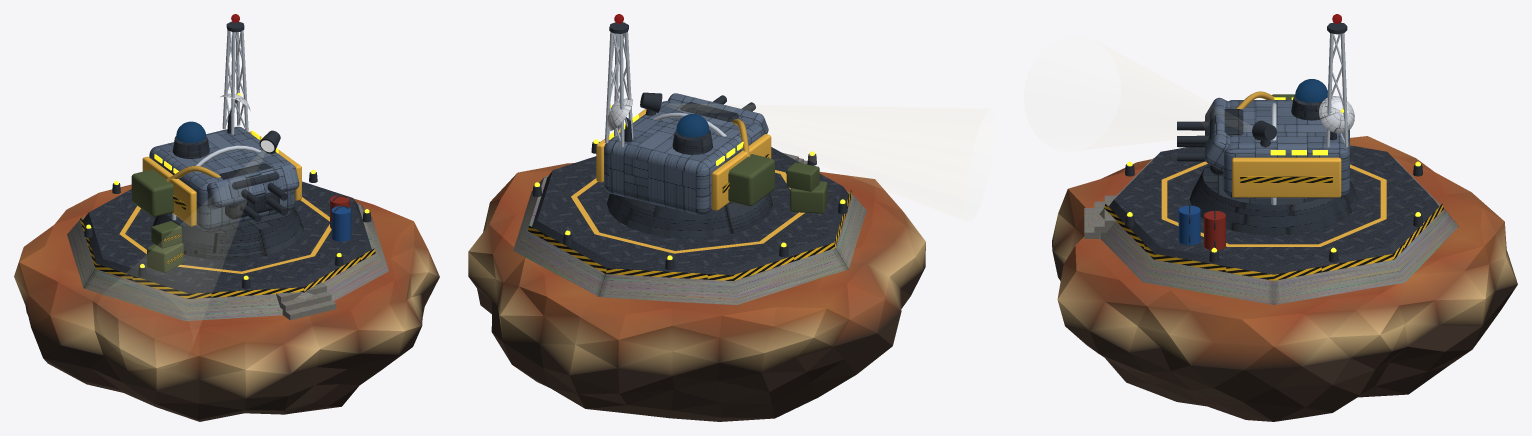
The model's file is autocannon-L50.glb.
3 views of the same model, side by side, from view 1: azimuth 30°, elevation 25°; view 2: azimuth 150°, elevation 25°; view 3: azimuth 270°, elevation 25° (orthographic). The views are drawn at different scales.
Parts seen in each view (by area): view 1: object 1, anim:yaw, object 4, object 2, object 35, object 3, anim:pitch, object 5, object 25, object 32, object 27, object 22 (+1 smaller); view 2: object 1, anim:yaw, object 4, object 2, object 35, object 3, object 5, object 25, object 27, anim:pitch, anim:rot; view 3: object 1, object 4, anim:yaw, object 2, object 35, object 3, object 5, anim:rot, object 32, object 29, anim:pitch.
Boxes of the visible parts, x1,y1,x2,y2 form: object 1: (14,184,439,421); anim:yaw: (131,14,301,230); object 4: (83,181,371,293); object 2: (67,203,388,320); object 35: (153,207,303,260); object 3: (80,215,375,298); anim:pitch: (219,163,279,219); object 5: (119,197,331,273); object 25: (147,243,183,272); object 32: (331,206,351,241); object 27: (151,221,181,248); object 22: (282,300,336,320); object 1: (468,163,925,421); anim:yaw: (596,14,774,215); object 4: (532,147,848,275); object 2: (513,175,866,304); object 35: (607,193,773,238); object 3: (528,189,852,280); object 5: (571,170,804,253); object 25: (790,181,827,213); object 27: (786,162,819,191); anim:pitch: (680,102,738,121); anim:rot: (607,98,632,130); object 1: (1052,136,1517,421); object 4: (1108,145,1439,274); anim:yaw: (1205,14,1349,198); object 2: (1099,158,1458,304); object 35: (1189,164,1358,235); object 3: (1104,204,1443,280); object 5: (1161,161,1386,246); anim:rot: (1319,96,1354,133); object 32: (1178,205,1200,245); object 29: (1204,211,1225,250); anim:pitch: (1210,109,1243,174).
Bounding box in the file's own units: 5.86 × 4.86 × 5.86.
Materials: 21 (7 with a texture image).
